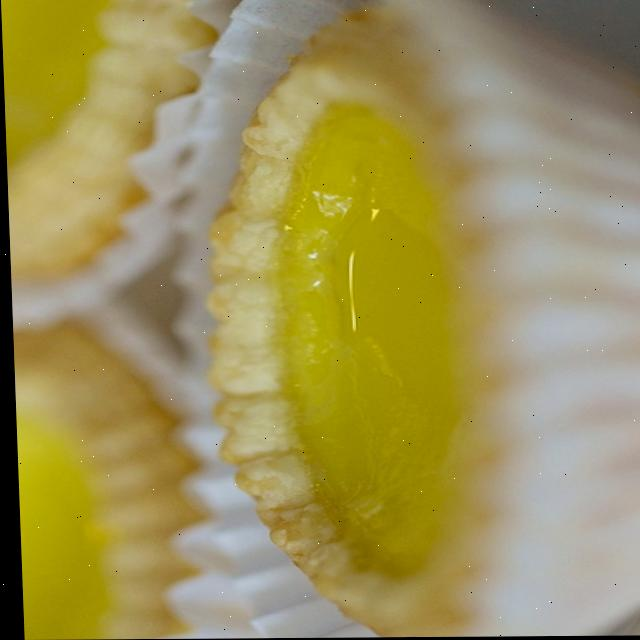炸货点心: (1, 9, 637, 640)
蛋糕甜品: (1, 9, 637, 640)
